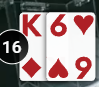6: (47, 13, 70, 39)
k: (21, 13, 45, 40)
